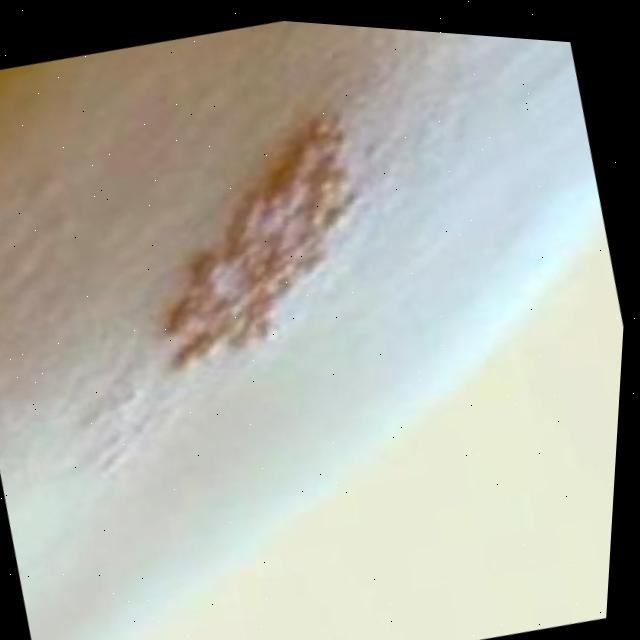Shingles: (98, 89, 406, 379)
